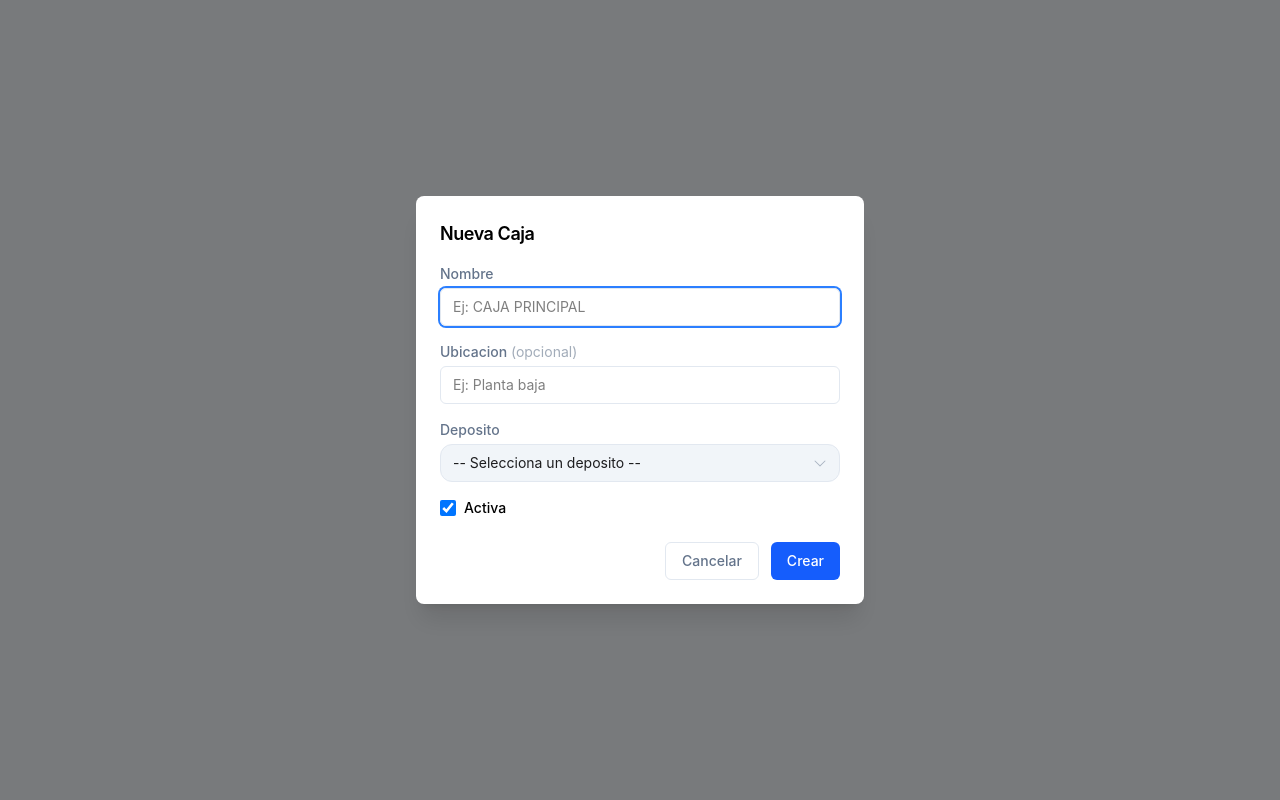
Scenario: CajaForm — deposito obligatorio (Validacion 2) › bloquea el submit sin deposito seleccionado, mostrando el mensaje del schema
The width and height of the screenshot is (1280, 800).
Type "Caja Principal" into the field labelled "Nombre" at x=640, y=307, box x1=440 y1=288 x2=840 y2=326
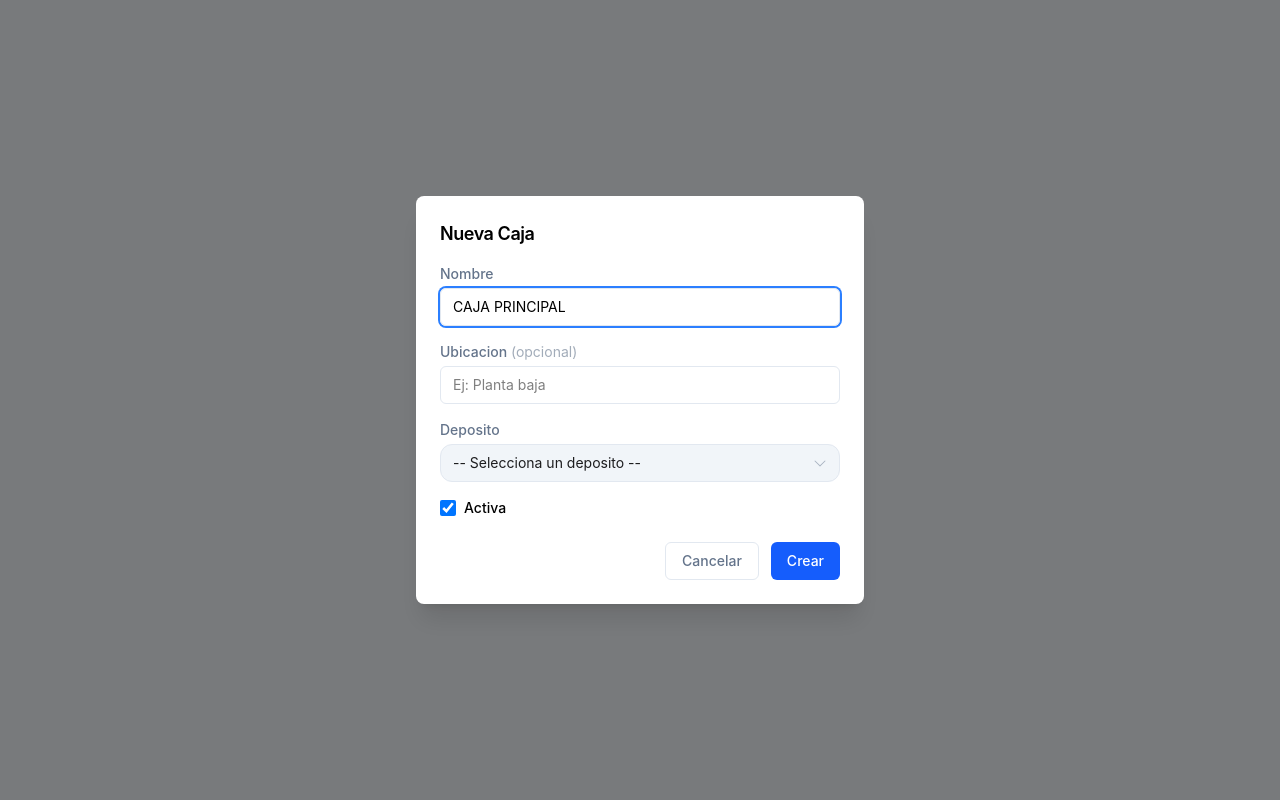
Submit the form "Nombre Ubicacion (opcional) Deposito Activa Cancelar Crear", box x1=440 y1=264 x2=840 y2=580
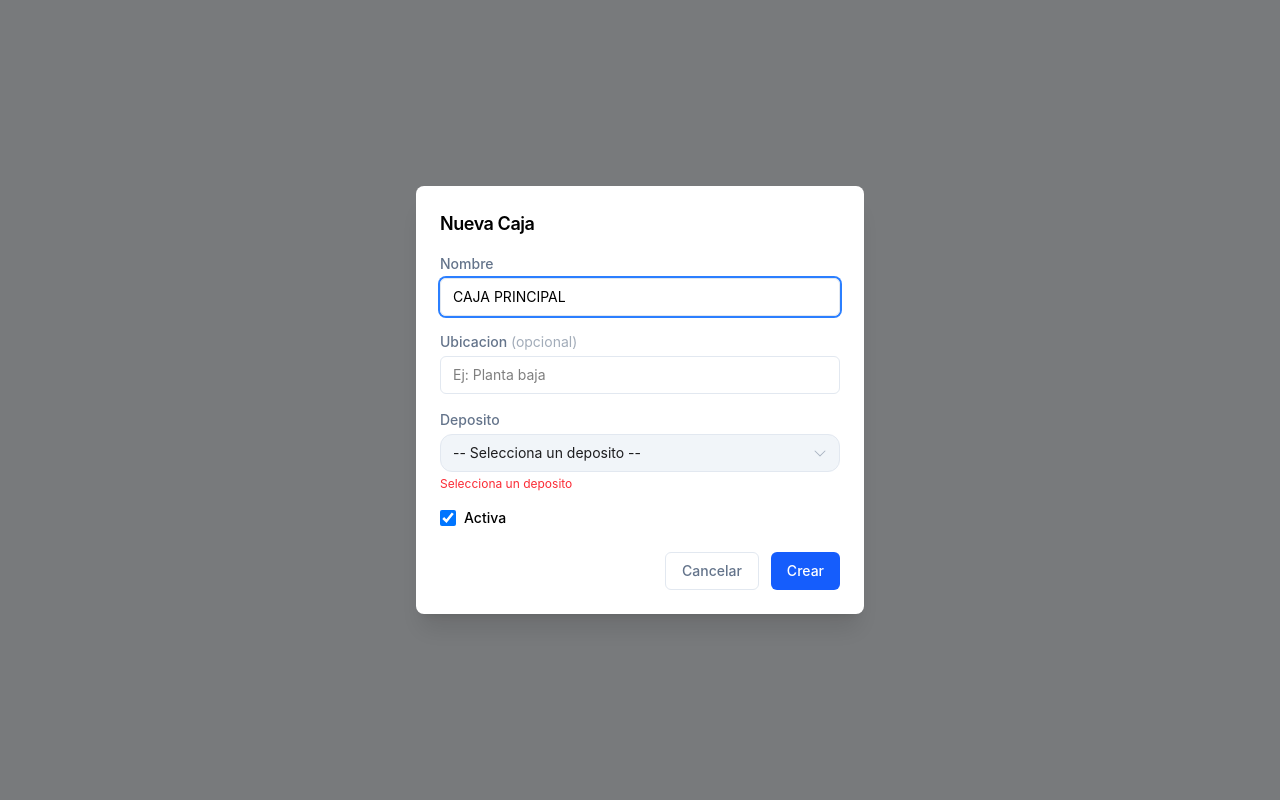
Check: the text "Selecciona un deposito" is shown, box x1=440 y1=476 x2=572 y2=491
